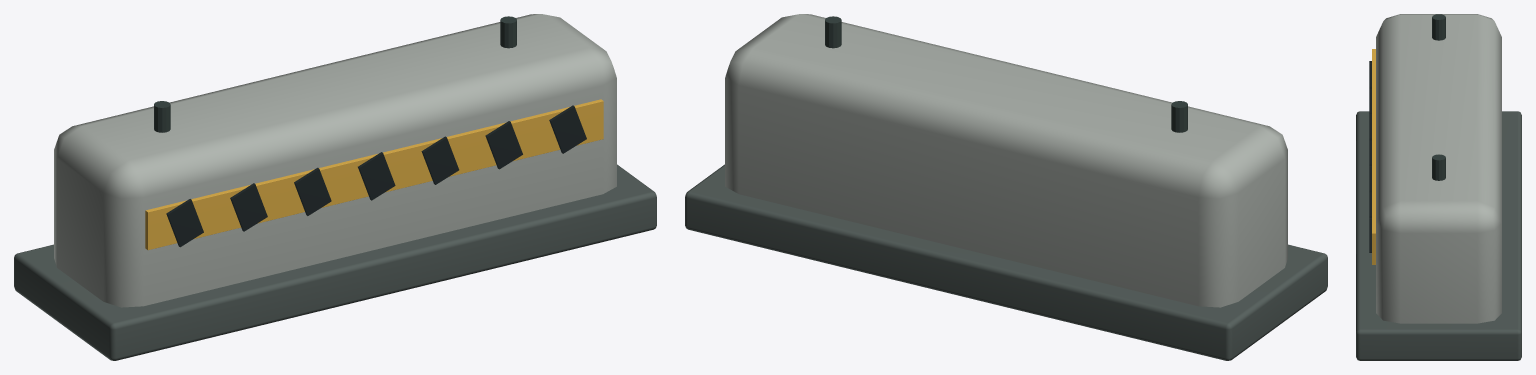
File: Barricade.fbx
3 renders of one model, left to right at view 1: azimuth 30°, elevation 25°; view 2: azimuth 150°, elevation 25°; view 3: azimuth 270°, elevation 25°, orthographic. The views are drawn at different scales.
Parts seen in each view (by area): view 1: BarricadeMesh; view 2: BarricadeMesh; view 3: BarricadeMesh.
Boxes of the visible parts, x1,y1,x2,y2 form: BarricadeMesh: [14, 14, 656, 360]; BarricadeMesh: [685, 14, 1327, 360]; BarricadeMesh: [1356, 14, 1521, 360].
Bounding box in the file's own units: 300 × 104 × 95.
